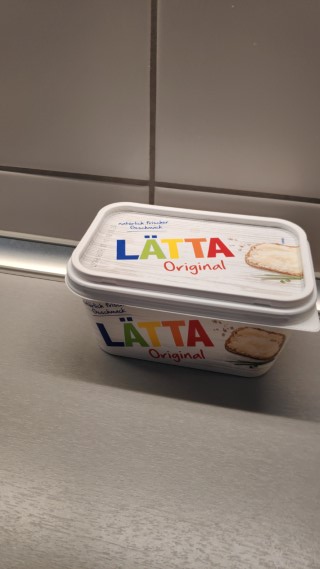laetta: (64, 200, 320, 381)
